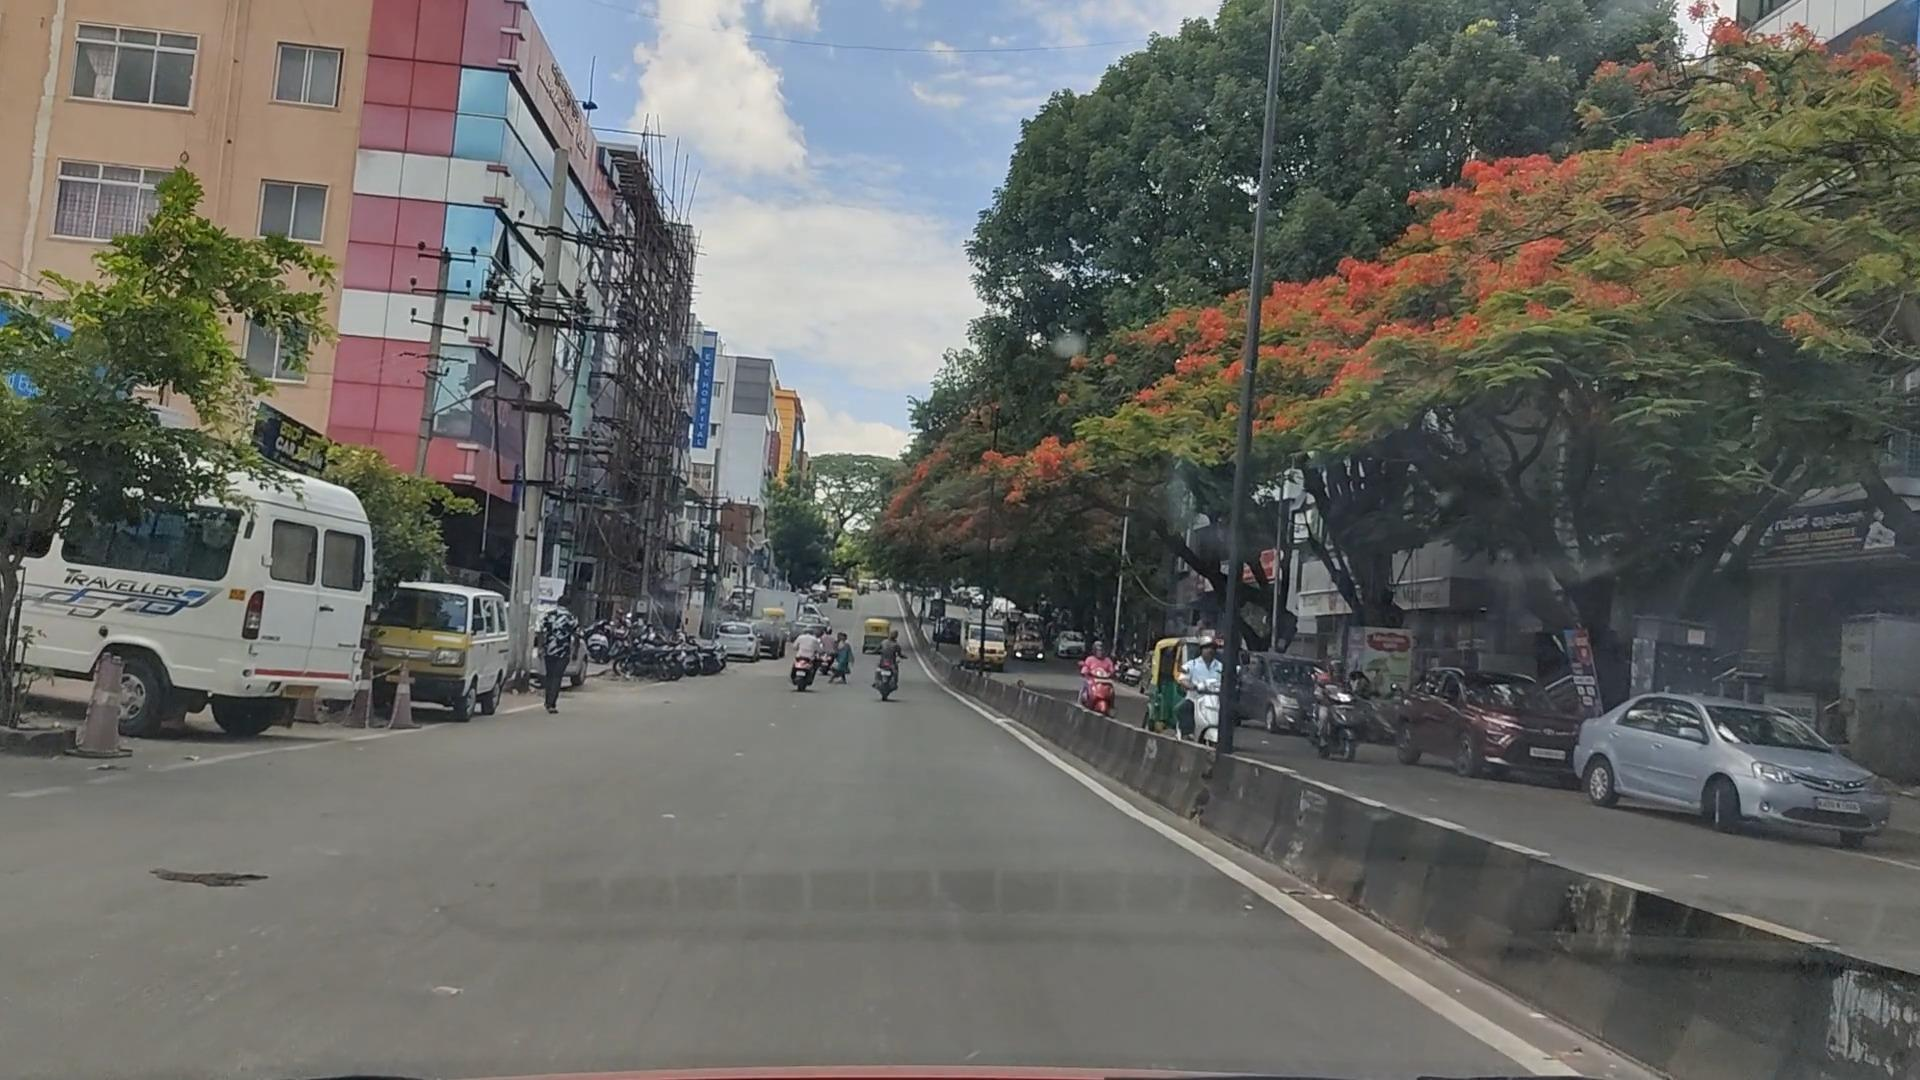RoadDamages: (120, 848, 325, 904)
